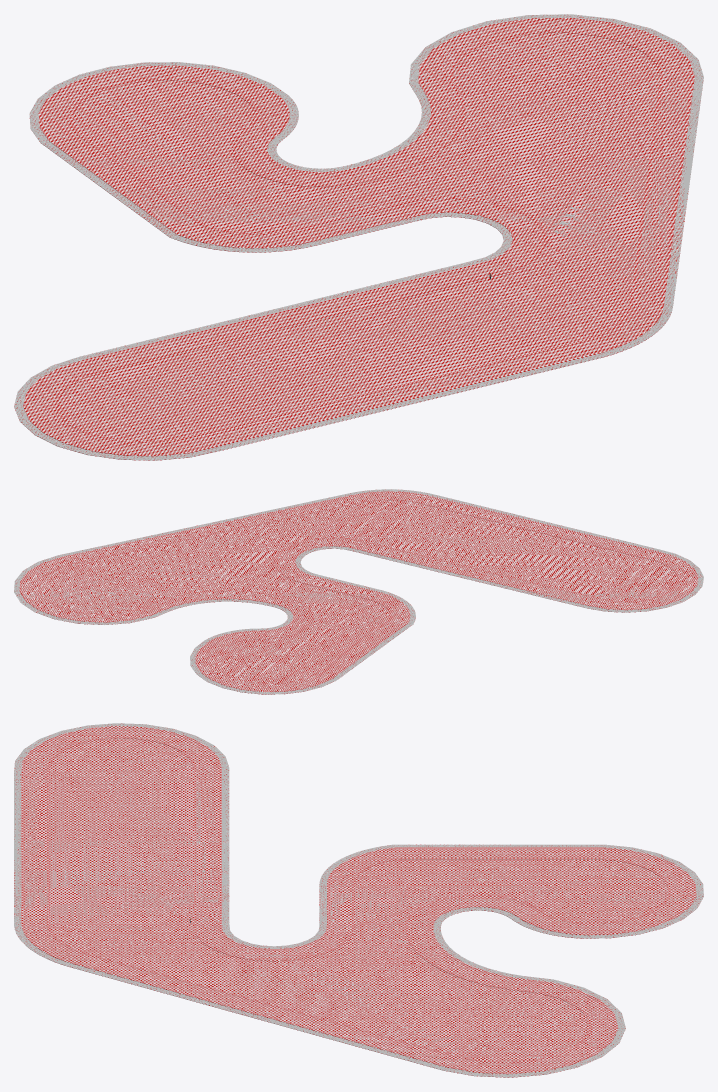
3 views of the same model, one above another, from view 1: azimuth 30°, elevation 25°; view 2: azimuth 150°, elevation 25°; view 3: azimuth 270°, elevation 25° (orthographic). The views are drawn at different scales.
Visible parts, largest first — view 1: SketchUp (×7); view 2: SketchUp (×7); view 3: SketchUp (×7).
Part boxes in pixels (x1=…): SketchUp (×7): x1=14, y1=14, x2=703, y2=460; SketchUp (×7): x1=14, y1=489, x2=703, y2=694; SketchUp (×7): x1=14, y1=723, x2=703, y2=1077.
Size of the model in its own units: 10358 by 8524 by 83.19.
